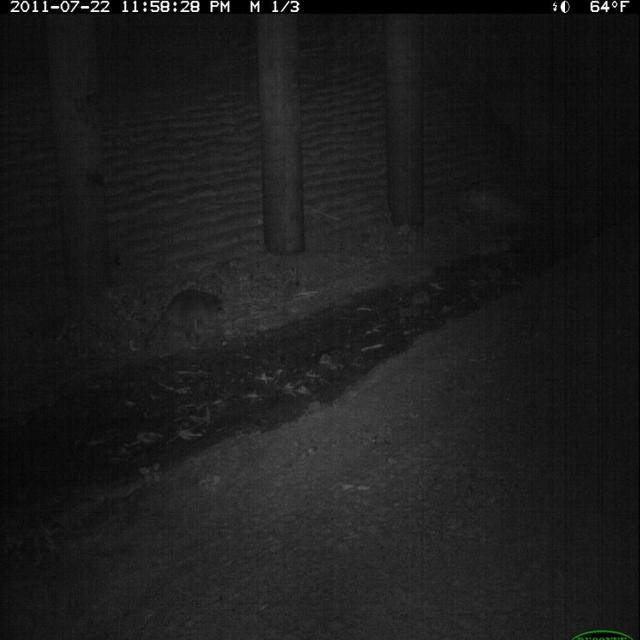raccoon: (141, 285, 232, 354)
